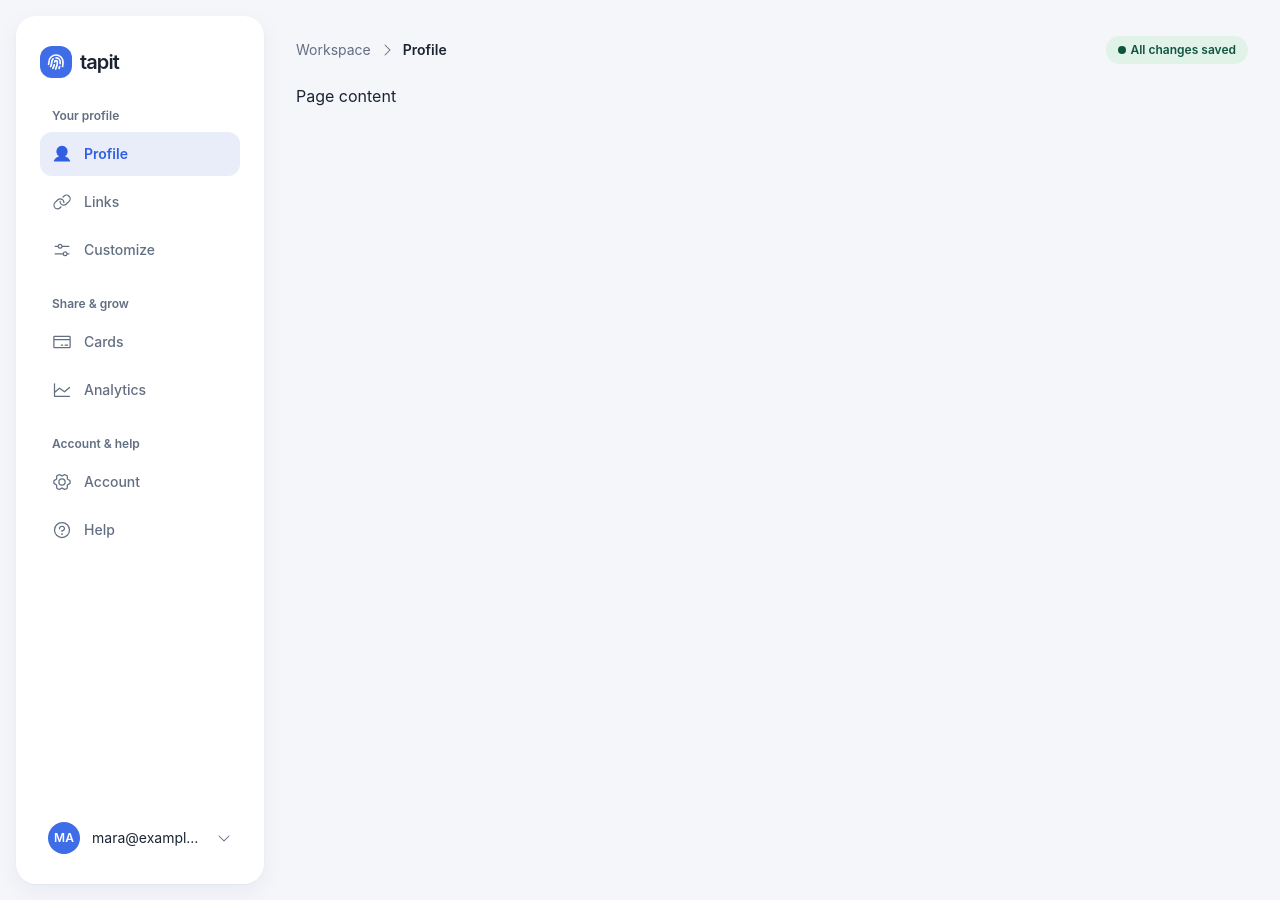
it: WorkspaceChrome sidebar › shows customer groups and account menu links at desktop width
The width and height of the screenshot is (1280, 900).
Expected: the heading "Your profile" is shown, [52,108,119,123]
Expected: the heading "Share & grow" is shown, [52,296,129,311]
Click the button with aria-label "Account menu for mara@example.test": [140, 838] box [40,816,240,860]
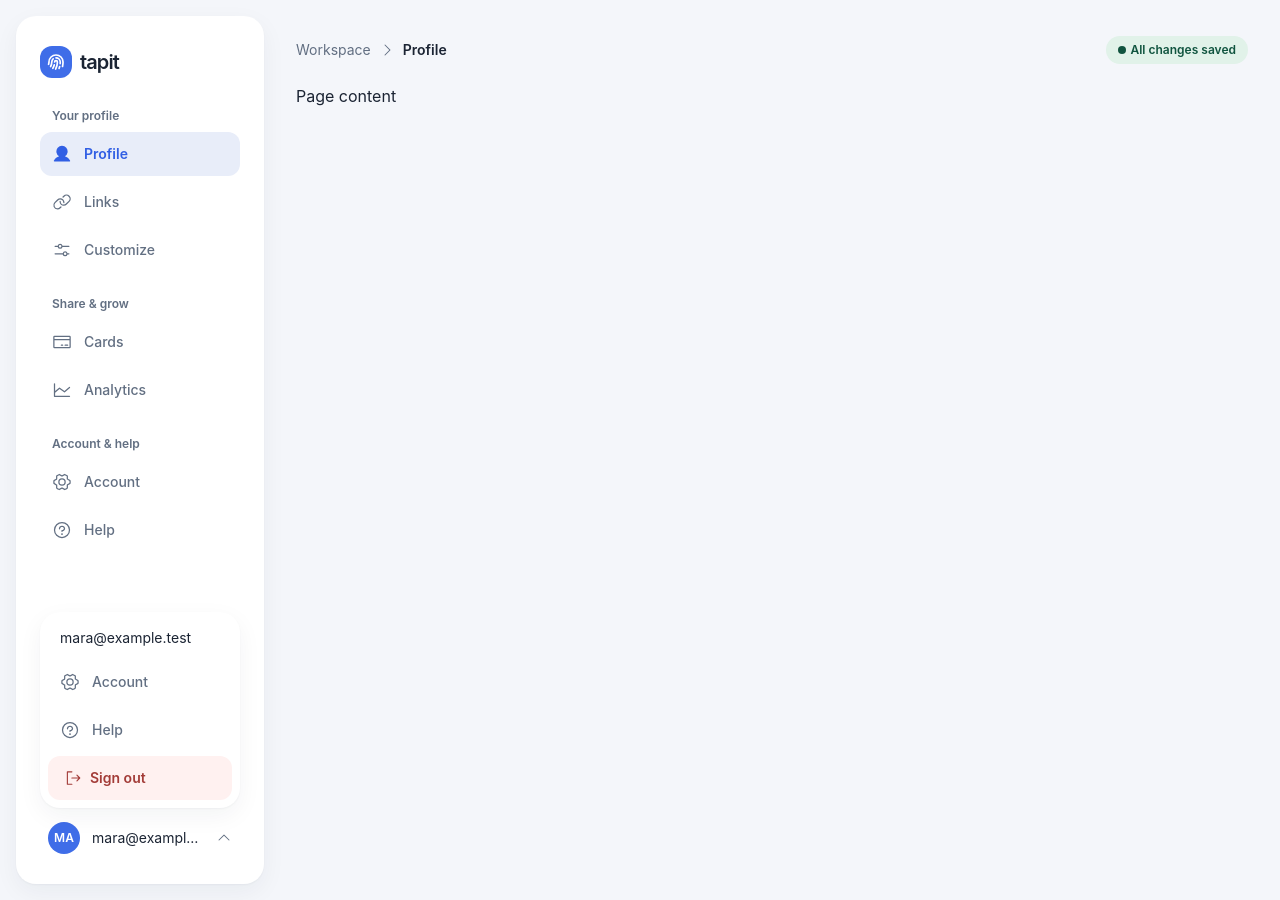
Expected: the 2nd link "Help" is shown, [60,720,123,740]
